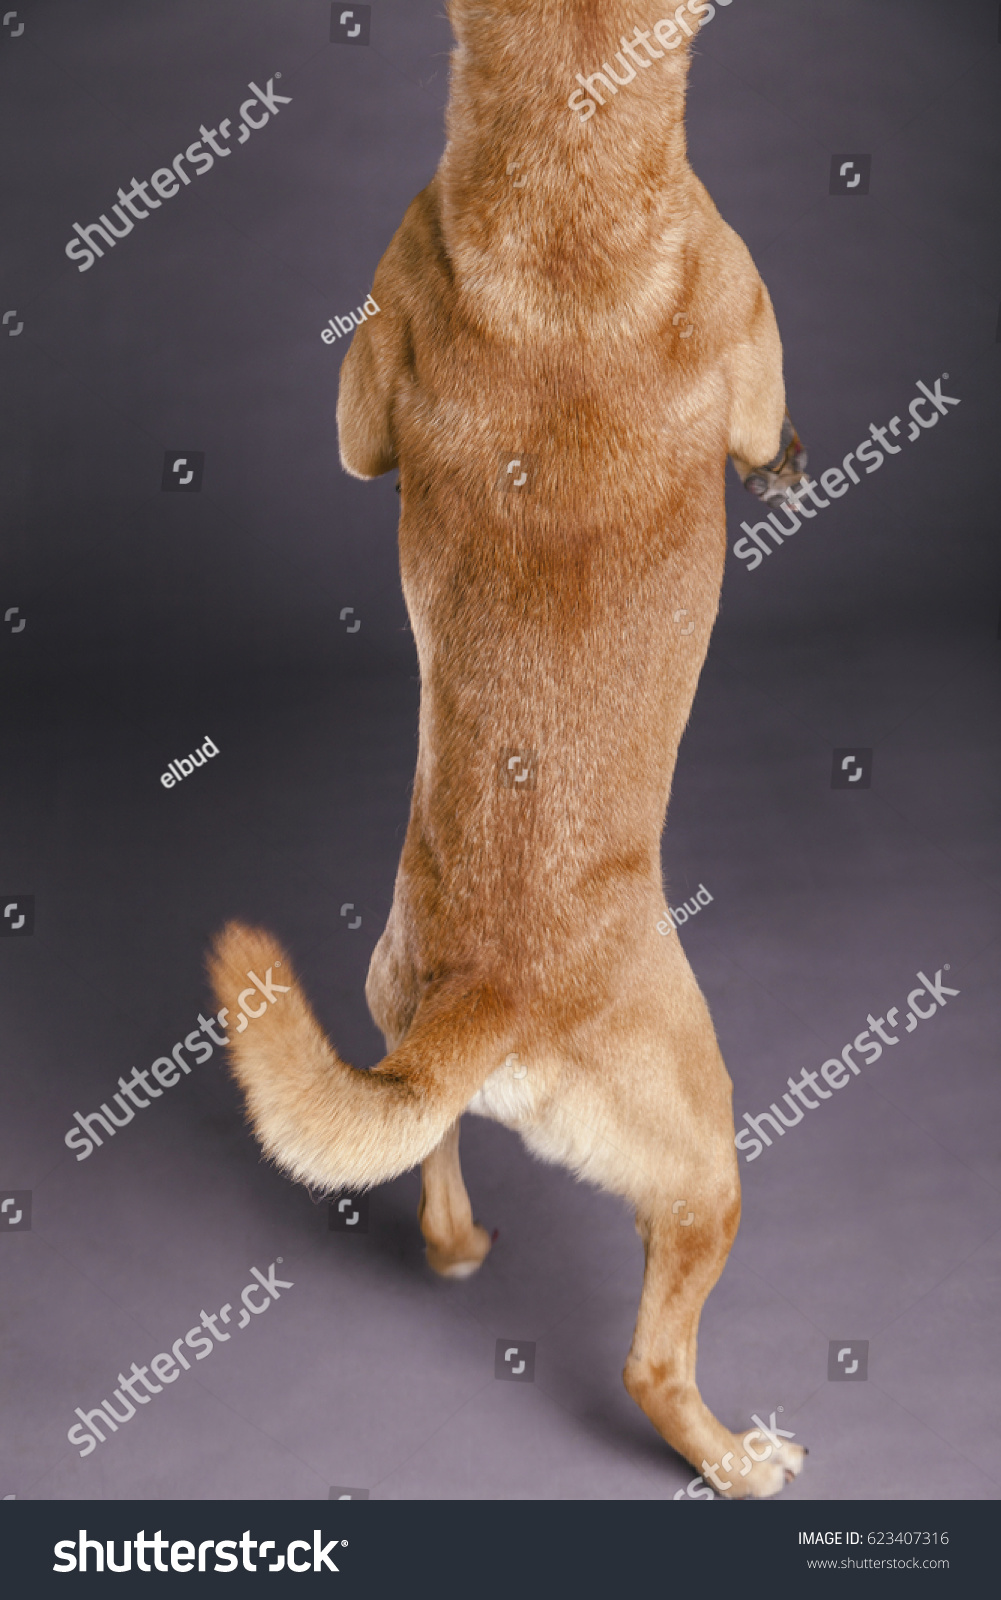dog: (190, 1, 835, 1500)
